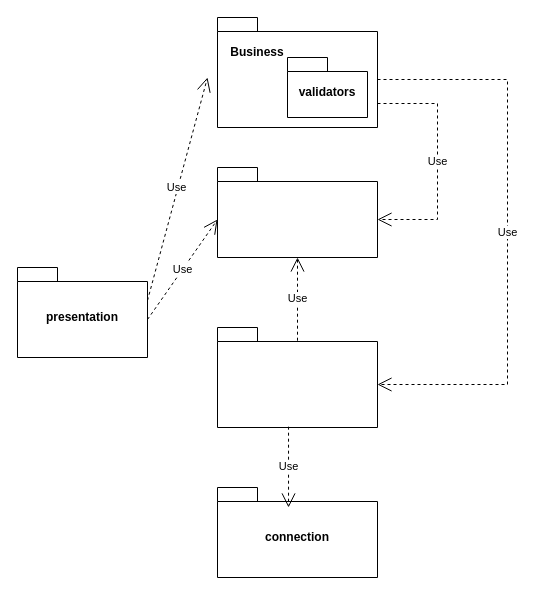
Some shapes in this 539 by 595 pixel diagram are drawn without their labels. The shapes that lost their labels are listed below. From the top down, each one's centre as x and y in pixels, then its label:
At pixel 297 212: "model".
At pixel 297 377: "dao".
